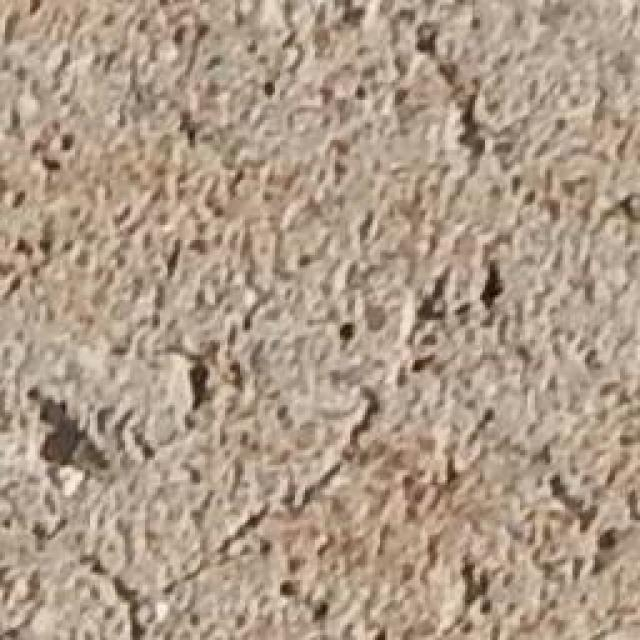concrete-crack: (55, 0, 514, 640), (28, 380, 112, 482)
